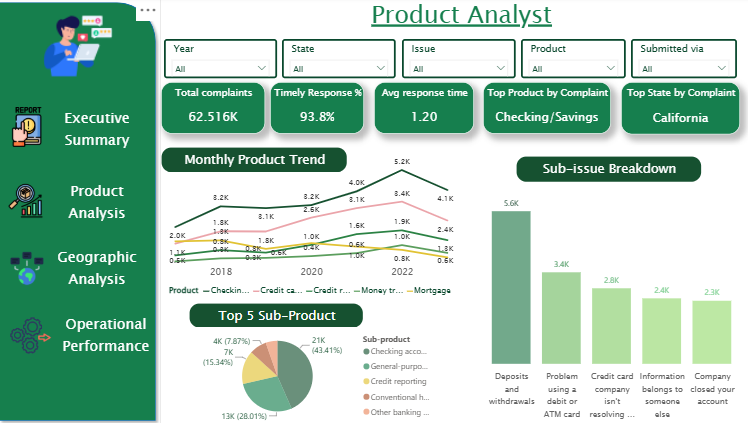

This screenshot's page, from the dashboard's own definition file:
{"tool":"powerbi","page":{"name":"Product Analyst","canvas":[1280,720],"ordinal":1},"visuals":[{"type":"group","id":"g1","title":"Group 4","box":[0,0,280.5,720.6],"z":0},{"type":"shape","box":[0,0,280.5,720.6],"z":0,"group":"g1"},{"type":"lineChart","title":"Monthly Trend","fields":{"Category":["Data.Year"],"Y":["Data.total complaint"],"Series":["Data.Product"]},"box":[280,251.7,505,261.7],"z":1000},{"type":"textbox","title":"Monthly Product Trend","box":[280,251.7,313.3,43.3],"z":2000},{"type":"textbox","title":"Top 5  Sub-Product Analysis","box":[328.3,513.3,293.3,41.7],"z":3000},{"type":"image","box":[55.4,21.8,171.3,120.9],"z":4000},{"type":"image","box":[13.4,184.8,82.3,67.2],"z":5000},{"type":"image","box":[23.5,300.7,58.8,82.3],"z":6000},{"type":"image","box":[26.9,423.3,57.1,65.5],"z":7000},{"type":"image","box":[26.9,534.2,68.9,68.9],"z":8000},{"type":"shape","title":"Product Analyst","box":[290,0,990,81.7],"z":9000},{"type":"cardVisual","title":"Total complaints","fields":{"Data":["Count(Data.Complaint ID)"]},"box":[280,143.3,175,86.7],"z":10000},{"type":"cardVisual","title":"Timely Response %","fields":{"Data":["Data.Timely Complaints %"]},"box":[463.3,143.3,158.3,86.7],"z":11000},{"type":"cardVisual","title":"Avg response time","fields":{"Data":["Data.Average Resolution Days"]},"box":[637.8,143.3,168.3,86.7],"z":12000},{"type":"cardVisual","title":"Top Product by Complaint ","fields":{"Data":["Data.Top Complaint Product"]},"box":[822.2,143.3,215,86.7],"z":13000},{"type":"cardVisual","title":"Top State by Complaint","fields":{"Data":["Data.Top State Complaints"]},"box":[1053.3,143.3,200,88.3],"z":14000},{"type":"columnChart","fields":{"Category":["Data.Sub-issue"],"Y":["Data.total complaint"]},"box":[785,321.7,495,398.3],"z":16000},{"type":"pieChart","fields":{"Y":["Data.total complaint"],"Category":["Data.Sub-product"]},"box":[328.3,555,420,165],"z":17000},{"type":"actionButton","box":[95.7,178.1,154.5,89],"z":22000},{"type":"actionButton","box":[95.7,300.7,154.5,89],"z":23000},{"type":"actionButton","box":[95.7,411.5,154.5,89],"z":24000},{"type":"actionButton","box":[95.7,524.1,184.8,89],"z":25000},{"type":"slicer","fields":{"Values":["Data.Year"]},"box":[285.6,70.6,189.8,65.5],"z":25001},{"type":"slicer","fields":{"Values":["Data.State"]},"box":[484.2,70.6,191.5,65.5],"z":25002},{"type":"slicer","fields":{"Values":["Data.Product"]},"box":[884.8,70.6,176.4,65.5],"z":25003},{"type":"slicer","fields":{"Values":["Data.Submitted via"]},"box":[1070,70.6,178.1,65.5],"z":25004},{"type":"slicer","fields":{"Values":["Data.Issue"]},"box":[684.5,70.6,191.5,65.5],"z":25005},{"type":"textbox","title":"Sub-issue Breakdown","box":[876.9,267.1,312.4,43.7],"z":25006}]}

Visuals, with their boxes in screenshot pixels (x1, y1, x2, y2), scaled from the page's 1280x720 canvas onto the 748x423 screenshot:
"Group 4" group: <bbox>0, 0, 164, 422</bbox>
shape: <bbox>0, 0, 164, 422</bbox>
"Monthly Trend" lineChart: <bbox>164, 148, 459, 302</bbox>
"Monthly Product Trend" textbox: <bbox>164, 148, 347, 173</bbox>
"Top 5  Sub-Product Analysis" textbox: <bbox>192, 302, 363, 326</bbox>
image: <bbox>32, 13, 132, 84</bbox>
image: <bbox>8, 109, 56, 148</bbox>
image: <bbox>14, 177, 48, 225</bbox>
image: <bbox>16, 249, 49, 287</bbox>
image: <bbox>16, 314, 56, 354</bbox>
"Product Analyst" shape: <bbox>169, 0, 747, 48</bbox>
"Total complaints" cardVisual: <bbox>164, 84, 266, 135</bbox>
"Timely Response %" cardVisual: <bbox>271, 84, 363, 135</bbox>
"Avg response time" cardVisual: <bbox>373, 84, 471, 135</bbox>
"Top Product by Complaint " cardVisual: <bbox>480, 84, 606, 135</bbox>
"Top State by Complaint" cardVisual: <bbox>616, 84, 732, 136</bbox>
columnChart - Data.Sub-issue x Data.total complaint: <bbox>459, 189, 747, 422</bbox>
pieChart - Data.total complaint x Data.Sub-product: <bbox>192, 326, 437, 422</bbox>
actionButton: <bbox>56, 105, 146, 157</bbox>
actionButton: <bbox>56, 177, 146, 229</bbox>
actionButton: <bbox>56, 242, 146, 294</bbox>
actionButton: <bbox>56, 308, 164, 360</bbox>
slicer - Data.Year: <bbox>167, 41, 278, 80</bbox>
slicer - Data.State: <bbox>283, 41, 395, 80</bbox>
slicer - Data.Product: <bbox>517, 41, 620, 80</bbox>
slicer - Data.Submitted via: <bbox>625, 41, 729, 80</bbox>
slicer - Data.Issue: <bbox>400, 41, 512, 80</bbox>
"Sub-issue Breakdown" textbox: <bbox>512, 157, 695, 183</bbox>
